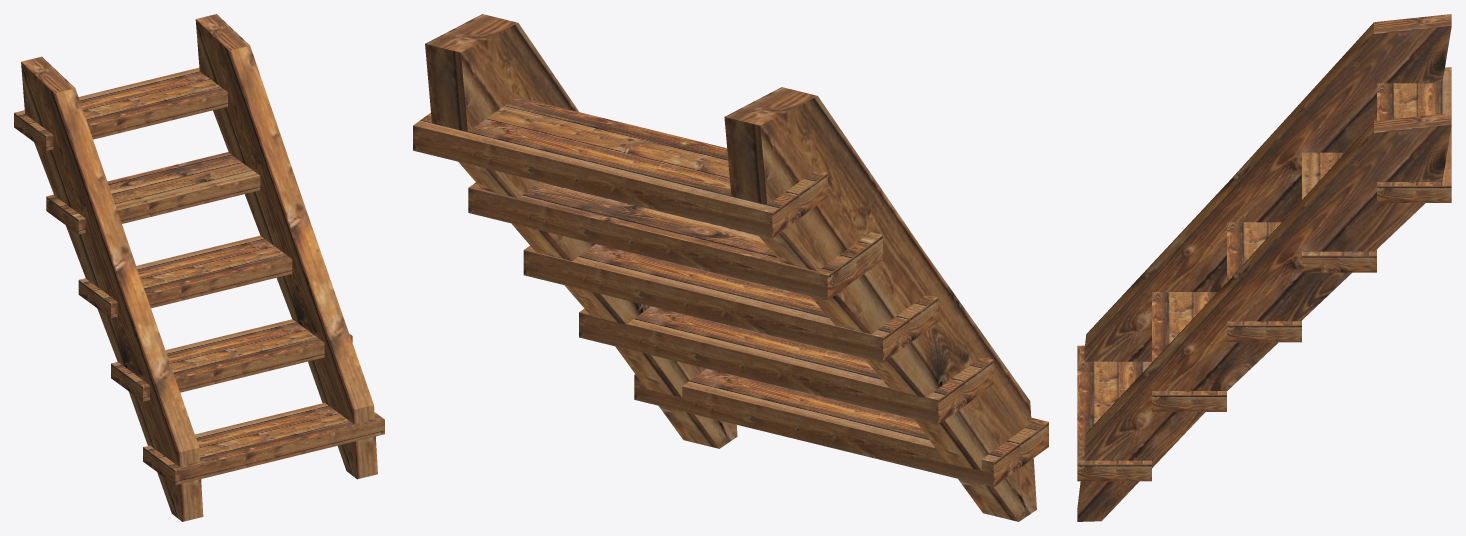
Rendered from ModularStairs1.fbx.
The picture shows the model from 3 angles, left to right: view 1: azimuth 30°, elevation 25°; view 2: azimuth 150°, elevation 25°; view 3: azimuth 270°, elevation 25°; orthographic projection. The views are drawn at different scales.
Parts seen in each view (by area): view 1: Cube.001, Cube, Step.002, Step.003, Step.001, Step.004, Step; view 2: Cube.001, Step, Cube, Step.004, Step.001, Step.003, Step.002; view 3: Cube, Cube.001, Step.002, Step, Step.003, Step.001, Step.004.
Boxes of the visible parts, box(x1,y1,x2,y2) form: Cube.001: box(21, 56, 203, 521); Cube: box(195, 14, 377, 479); Step.002: box(143, 403, 384, 485); Step.003: box(111, 319, 352, 401); Step.001: box(78, 235, 292, 317); Step.004: box(46, 152, 260, 234); Step: box(14, 67, 227, 150); Cube.001: box(724, 87, 1036, 521); Step: box(413, 97, 827, 238); Cube: box(425, 14, 737, 448); Step.004: box(468, 182, 882, 300); Step.001: box(523, 244, 938, 362); Step.003: box(579, 306, 993, 424); Step.002: box(634, 368, 1048, 487); Cube: box(1077, 113, 1451, 521); Cube.001: box(1084, 14, 1451, 361); Step.002: box(1077, 345, 1151, 481); Step: box(1377, 67, 1451, 202); Step.003: box(1152, 292, 1226, 411); Step.001: box(1227, 222, 1301, 342); Step.004: box(1302, 152, 1376, 272).
Bounding box in the file's own units: 300 × 468 × 400.
